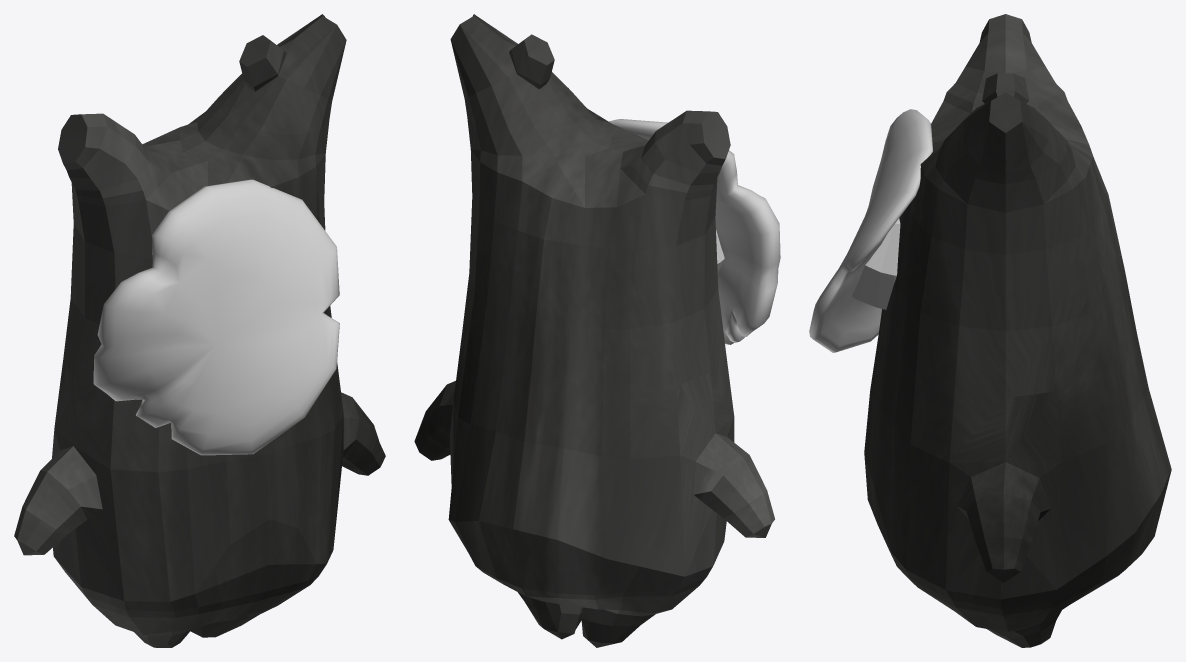
The model's file is frame_0012.obj.
3 views of the same model, side by side, from view 1: azimuth 30°, elevation 25°; view 2: azimuth 150°, elevation 25°; view 3: azimuth 270°, elevation 25° (orthographic). The views are drawn at different scales.
Parts seen in each view (by area): view 1: korok, leaf; view 2: korok, leaf; view 3: korok, leaf, nose.
Boxes of the visible parts, box(x1,y1,x2,y2) form: korok: box(14, 14, 385, 647); leaf: box(93, 179, 339, 455); korok: box(414, 14, 774, 647); leaf: box(609, 119, 780, 344); korok: box(864, 14, 1171, 647); leaf: box(809, 109, 932, 352); nose: box(852, 218, 900, 309).
Bounding box in the file's own units: 1.6 × 2.54 × 1.38.
